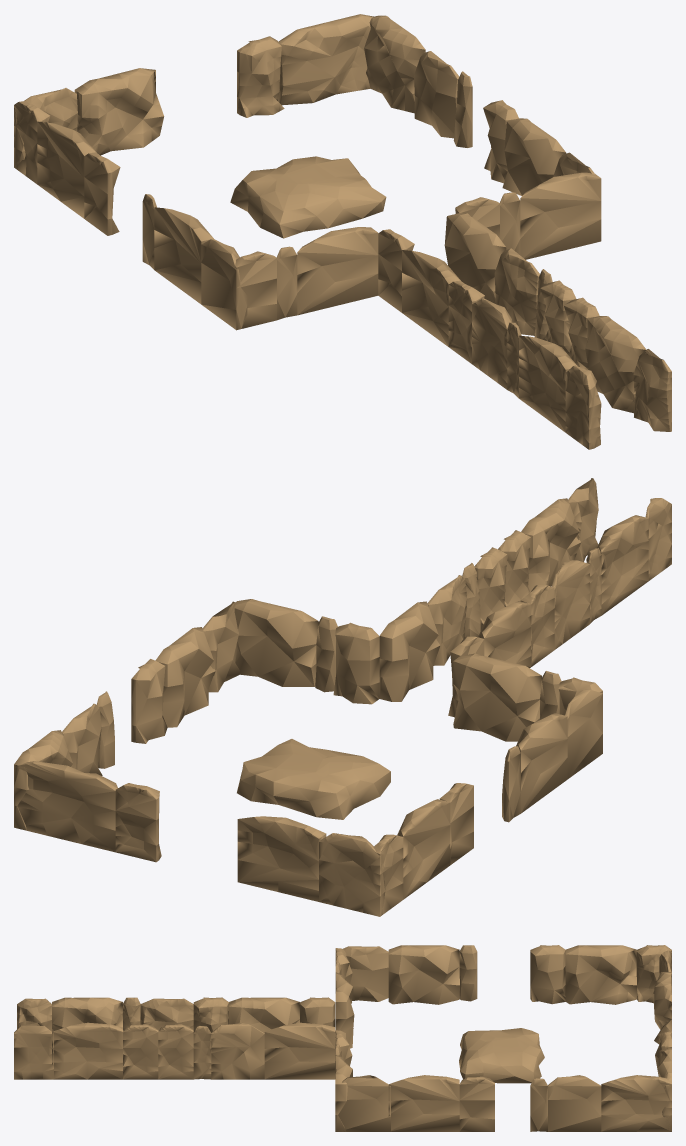
The model's file is levelcommon.fbx.
3 views of the same model, one above another, from view 1: azimuth 30°, elevation 25°; view 2: azimuth 150°, elevation 25°; view 3: azimuth 270°, elevation 25° (orthographic). The views are drawn at different scales.
Parts seen in each view (by area): view 1: LevelCommon.004; view 2: LevelCommon.004; view 3: LevelCommon.004.
Boxes of the visible parts, x1,y1,x2,y2 form: LevelCommon.004: (14,14,671,449); LevelCommon.004: (14,478,671,916); LevelCommon.004: (14,945,671,1131).
Bounding box in the file's own units: 3600 × 653 × 7434.
